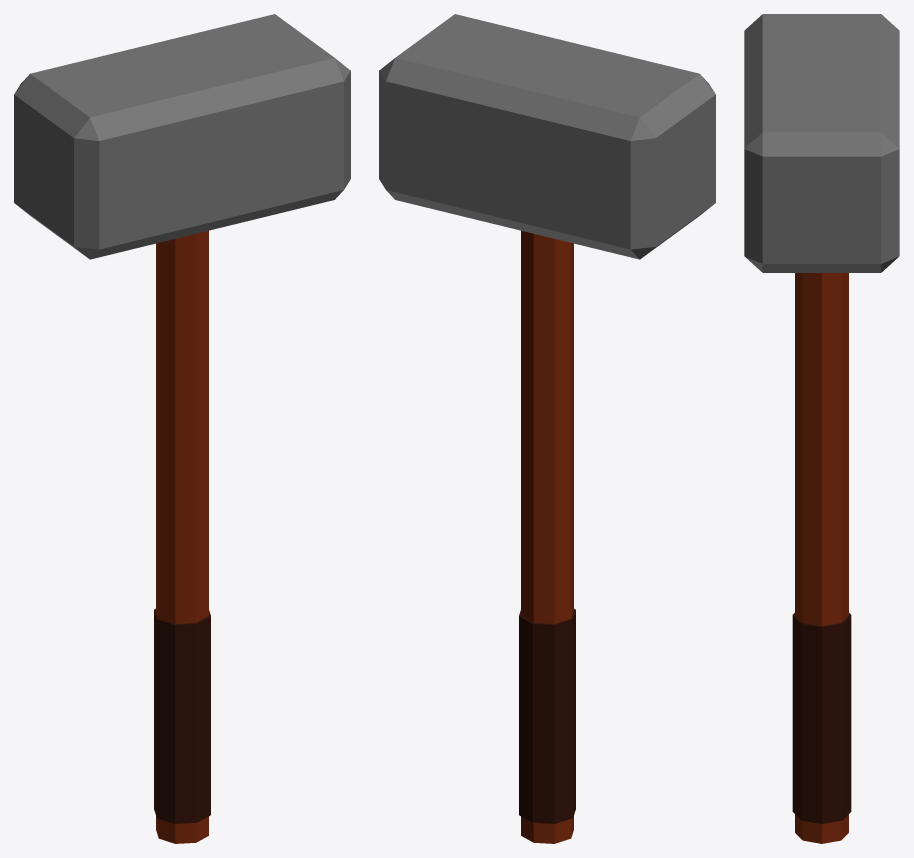
File: Hammer.obj
3 views of the same model, side by side, from view 1: azimuth 30°, elevation 25°; view 2: azimuth 150°, elevation 25°; view 3: azimuth 270°, elevation 25° (orthographic).
Parts seen in each view (by area): view 1: Hammer_Cube.001; view 2: Hammer_Cube.001; view 3: Hammer_Cube.001.
Boxes of the visible parts, box(x1,y1,x2,y2) form: Hammer_Cube.001: box(14, 14, 350, 843); Hammer_Cube.001: box(379, 14, 715, 843); Hammer_Cube.001: box(744, 14, 899, 843).
Bounding box in the file's own units: 0.5836 × 1.54 × 0.2862.
